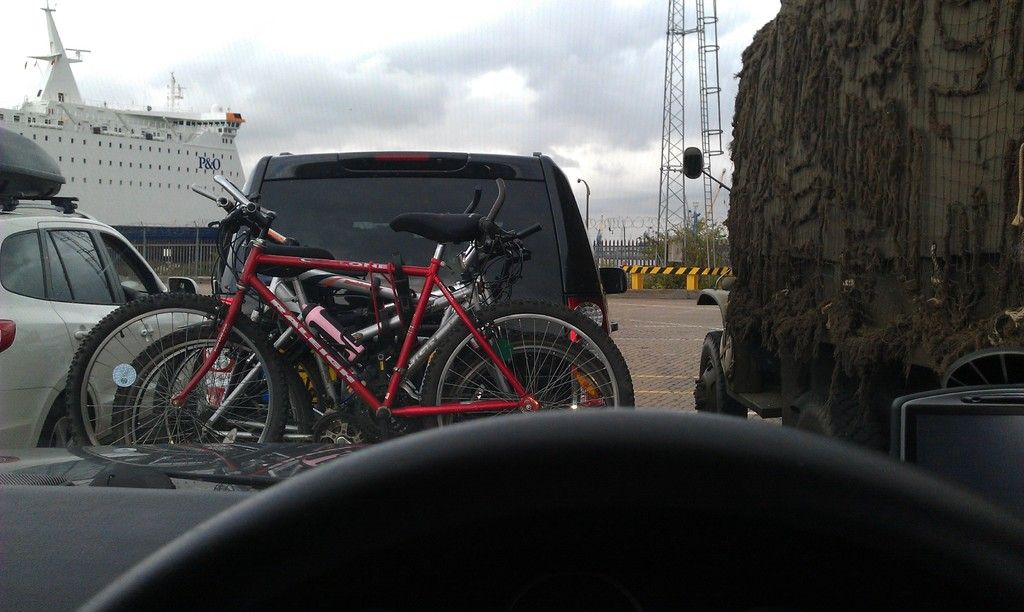Car: (209, 136, 625, 440), (0, 125, 204, 450)
